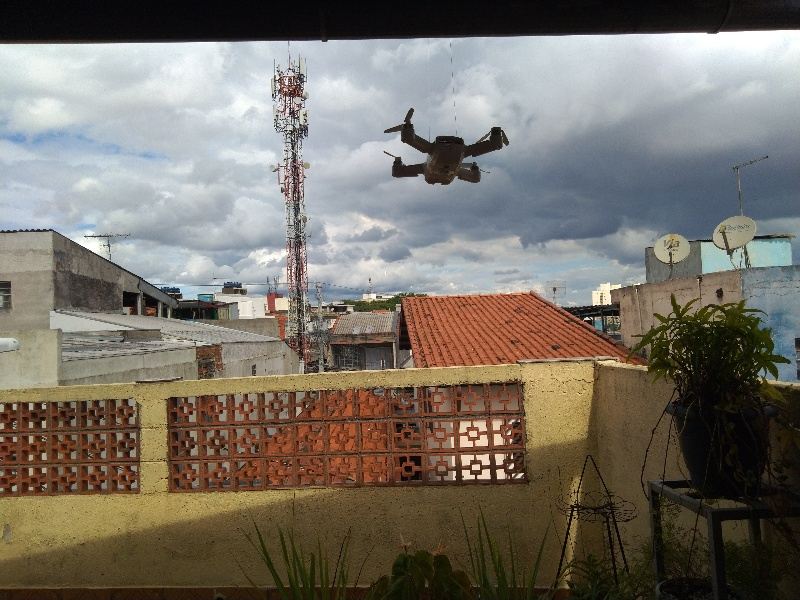drone: (375, 101, 515, 195)
